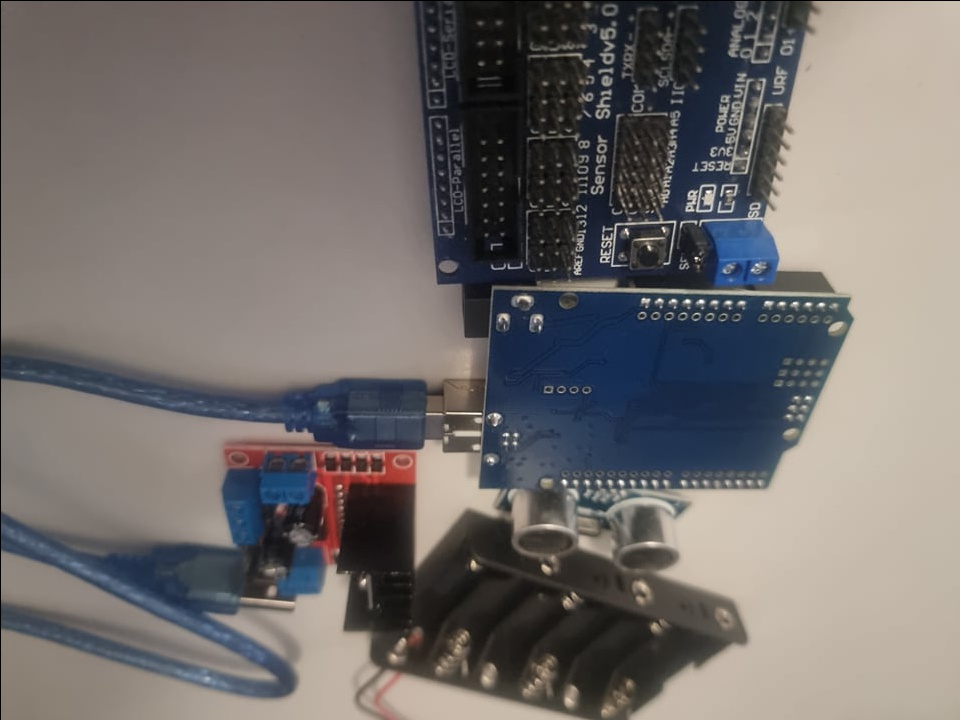5V EXPANSION: (413, 4, 812, 281)
BATTERY BOX: (372, 505, 747, 717)
MOTOR: (223, 441, 419, 635)
SENSOR: (494, 487, 690, 572)
UNO R3: (440, 282, 856, 498)
